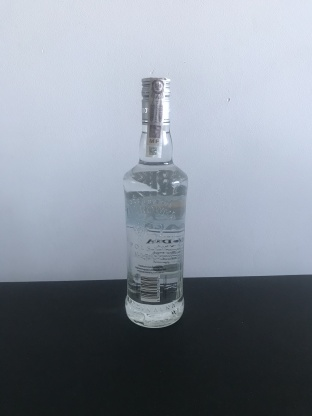nakretka: (138, 71, 172, 127)
